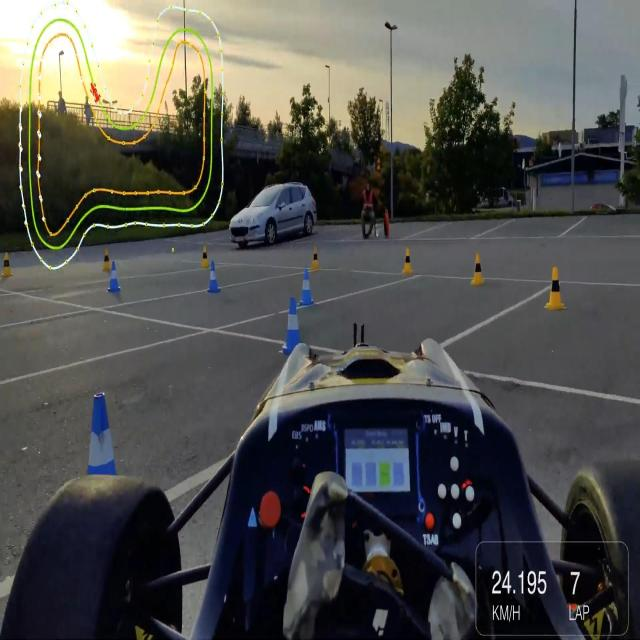blue_cone: (78, 391, 124, 527), (282, 297, 306, 354), (299, 268, 314, 304), (208, 261, 222, 293), (108, 261, 122, 291)
yellow_cone: (546, 265, 565, 309), (471, 254, 485, 284), (402, 247, 414, 274), (1, 252, 12, 276), (102, 249, 112, 273), (310, 248, 320, 269), (201, 247, 210, 267)
